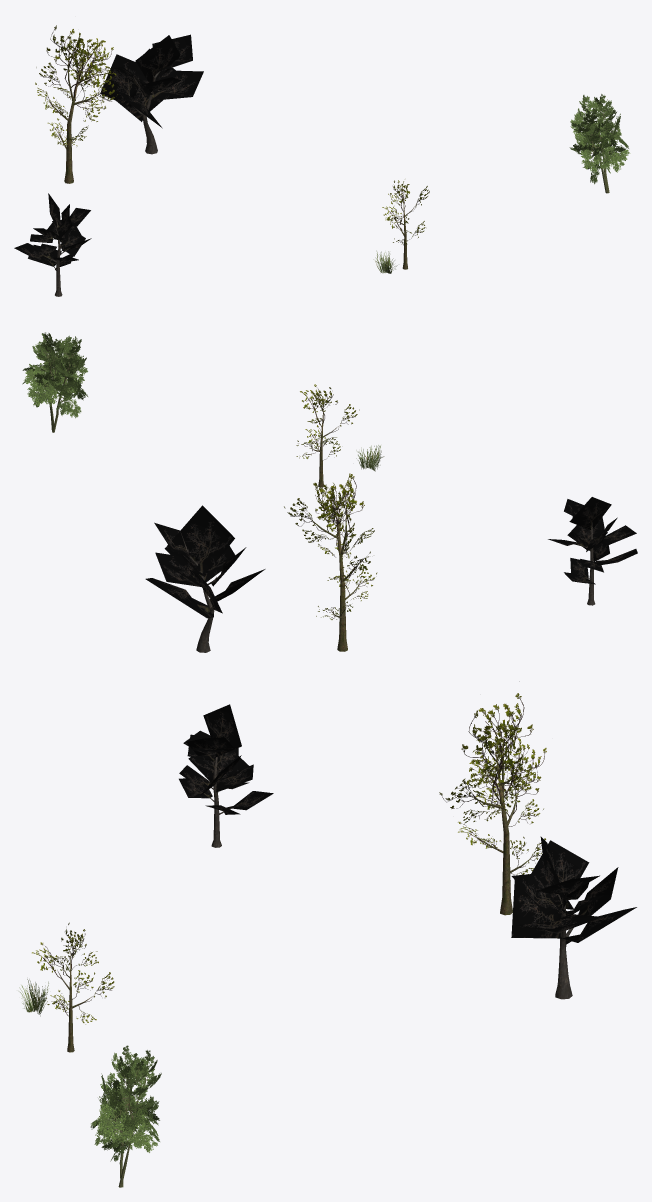
Rendered from arboles.obj.
3 renders of one model, top to bottom at view 1: azimuth 30°, elevation 25°; view 2: azimuth 150°, elevation 25°; view 3: azimuth 270°, elevation 25°, orthographic. The views are drawn at different scales.
Visible parts, largest first — view 1: rough_wood-material, Rama_001-material.001, Tree-03-1.012, Rama_002-material.001, Rama_001-material; view 2: rough_wood-material, Tree-03-1.012, Rama_001-material.001, Rama_002-material.001, Rama_001-material; view 3: rough_wood-material, Rama_001-material.001, Tree-03-1.012, Rama_002-material.001, Rama_001-material.
Part boxes in pixels (x1,y1,x2,y2): rough_wood-material: (100, 34, 203, 154); Rama_001-material.001: (35, 25, 117, 183); Tree-03-1.012: (569, 94, 630, 193); Rama_002-material.001: (14, 193, 91, 296); Rama_001-material: (382, 180, 429, 269); rough_wood-material: (145, 505, 265, 652); Tree-03-1.012: (22, 332, 87, 432); Rama_001-material.001: (284, 473, 377, 651); Rama_002-material.001: (548, 497, 637, 605); Rama_001-material: (296, 384, 359, 487); rough_wood-material: (511, 836, 636, 999); Rama_001-material.001: (439, 681, 546, 915); Tree-03-1.012: (90, 1045, 161, 1187); Rama_002-material.001: (179, 704, 273, 847); Rama_001-material: (32, 922, 114, 1052).
Bounding box in the file's own units: 235 × 69.06 × 158.
12 materials, 12 textured.
